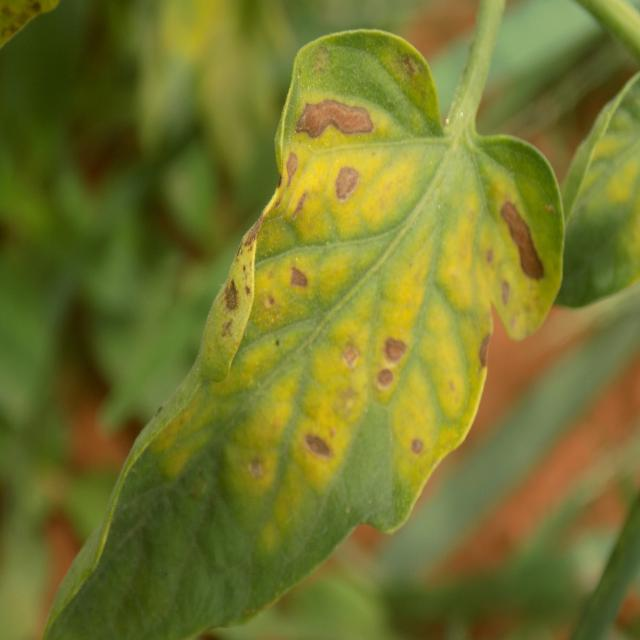tomato_early blight: (45, 27, 562, 640)
